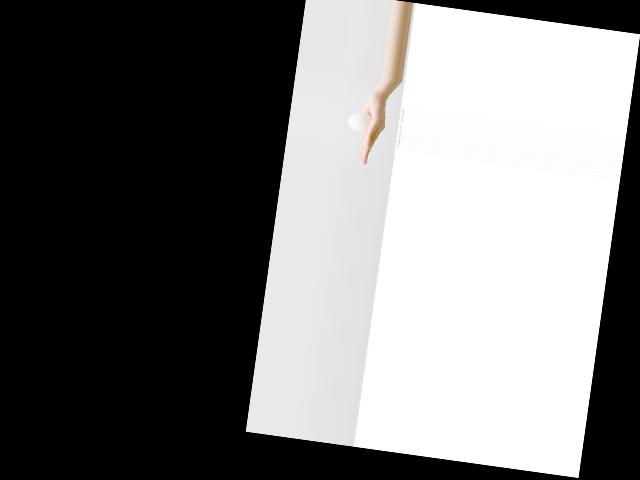egg: (347, 111, 372, 133)
